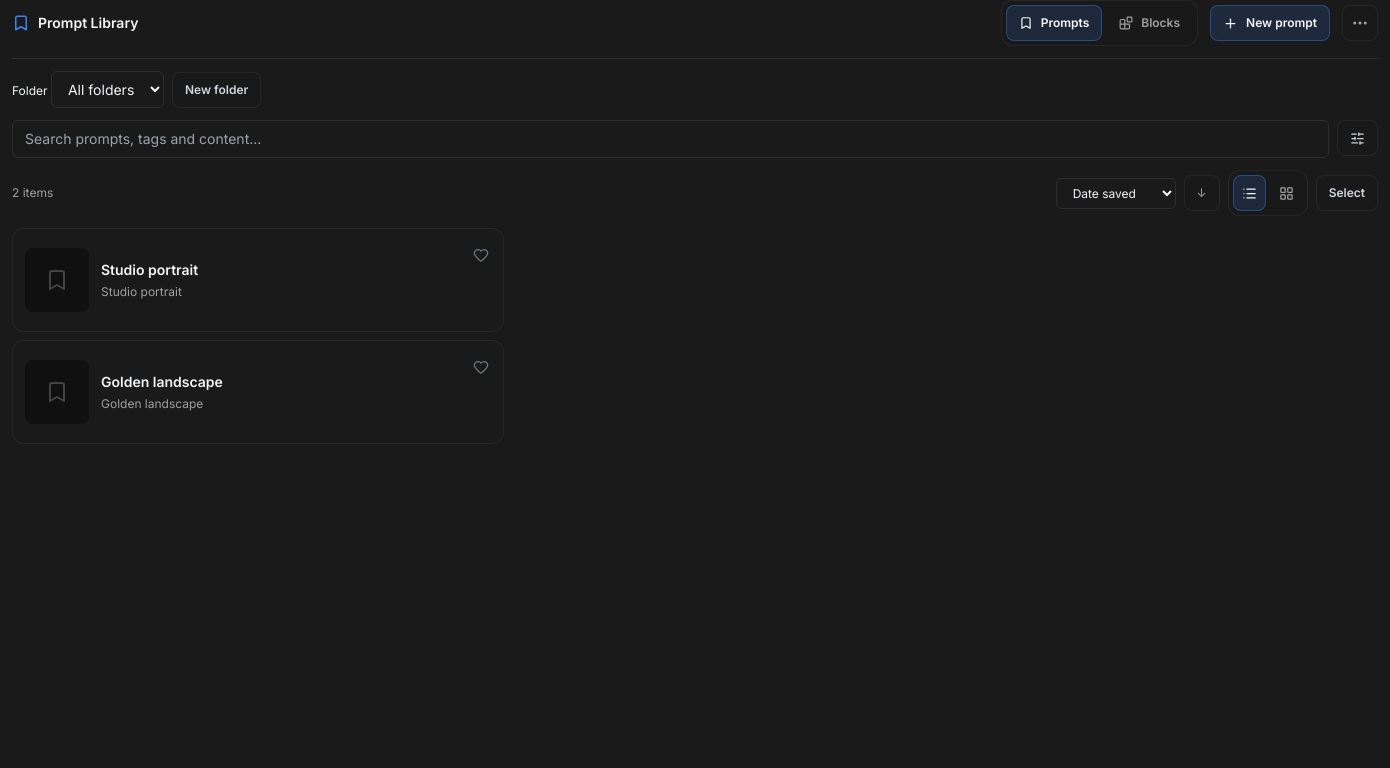
it: integrated Prompt Library › waits for tag saves before favorite on a prompt and uses the latest revision
This screenshot has width=1390, height=768.
Click the button with aria-label "Open Studio portrait" at (57,280), box [25, 248, 491, 312]
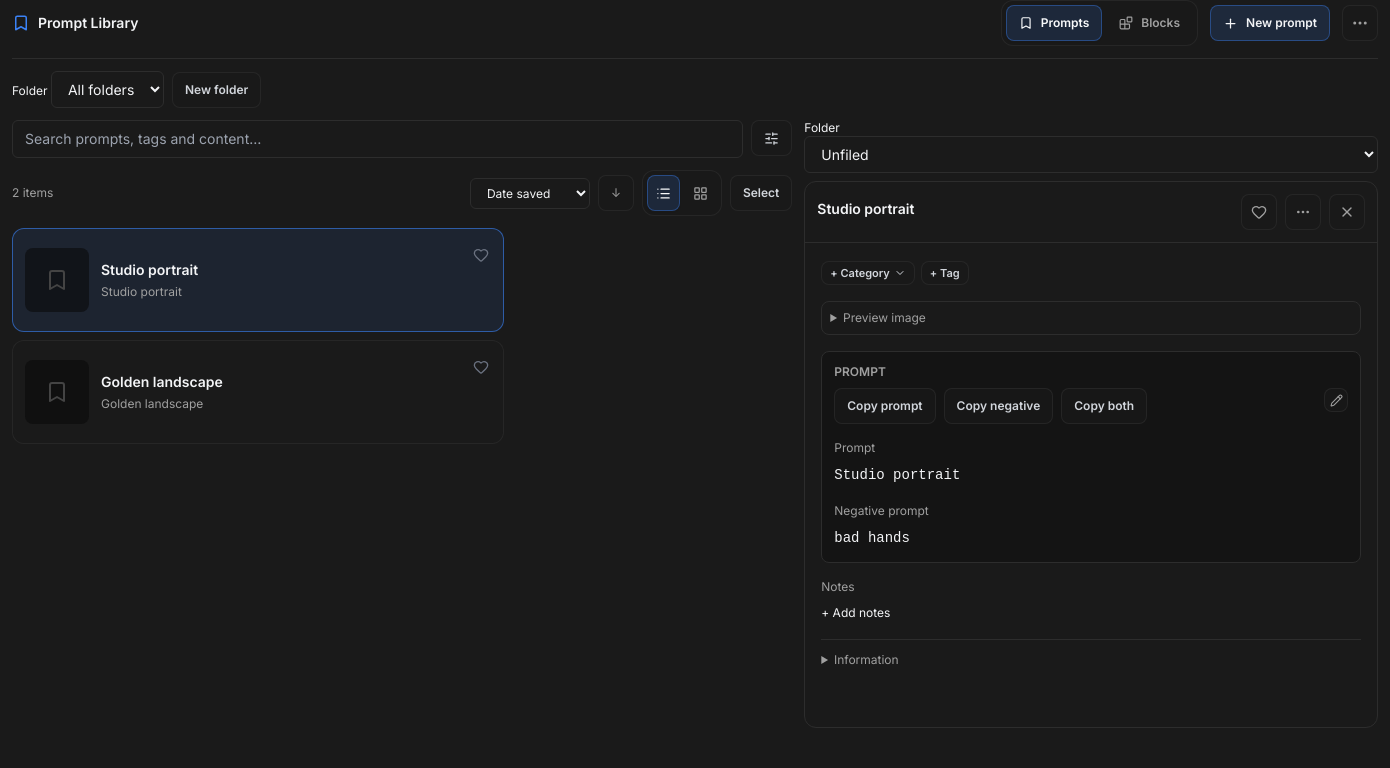
Click the button "+ Tag" at (945,273), box [921, 261, 969, 285]
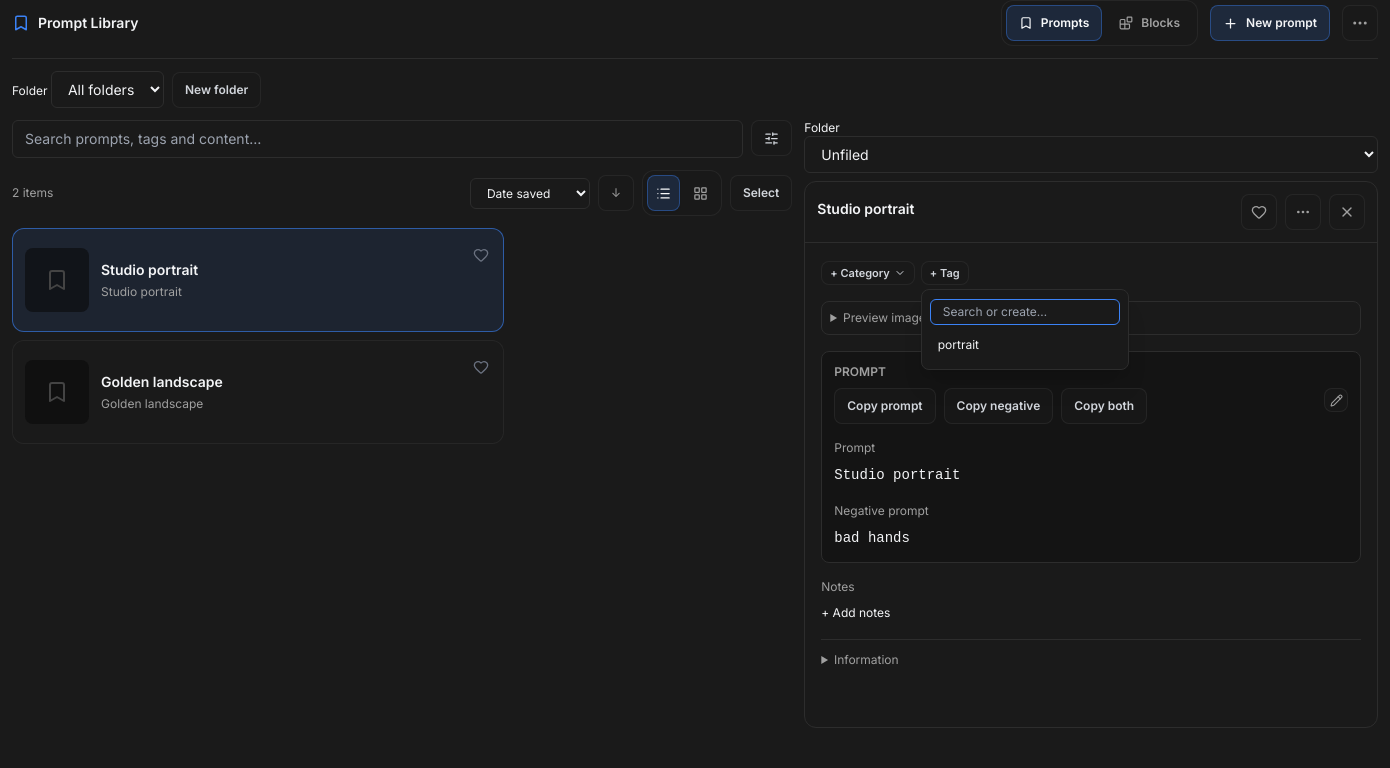
Type "new-tag" into the field named "Search or create tag" at (1025,312), box [930, 299, 1120, 325]
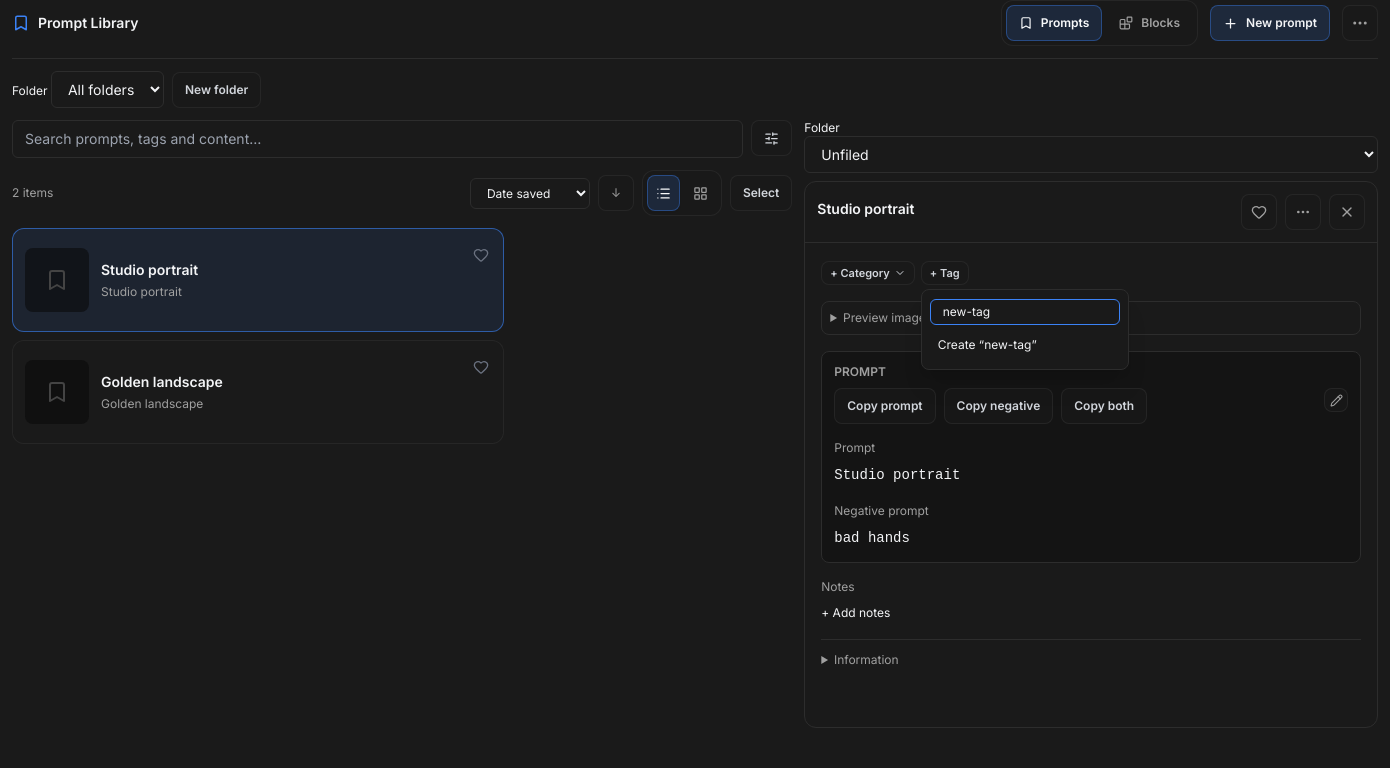
Press Enter in the field named "Search or create tag", box [930, 299, 1120, 325]
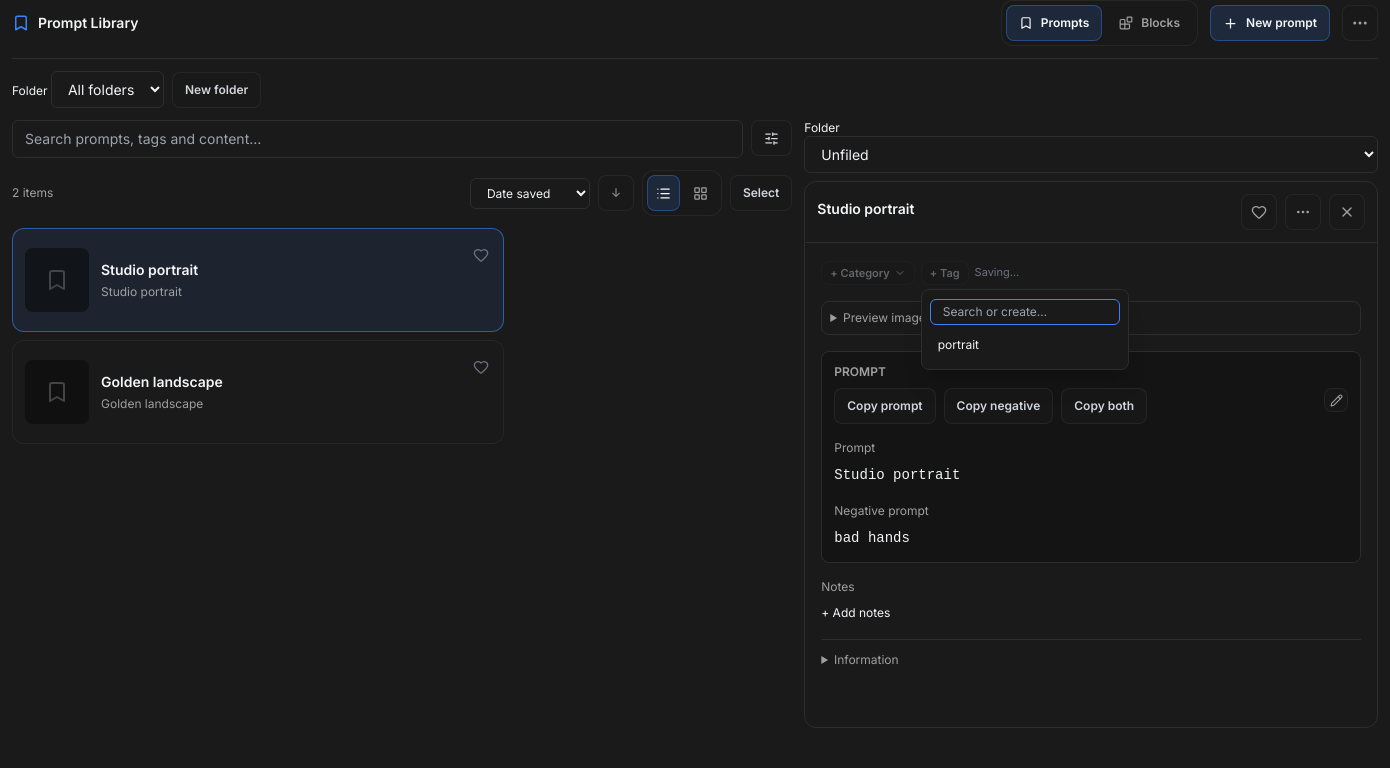
Click the button named "Toggle favorite" at (1259,212), box [1241, 194, 1277, 230]
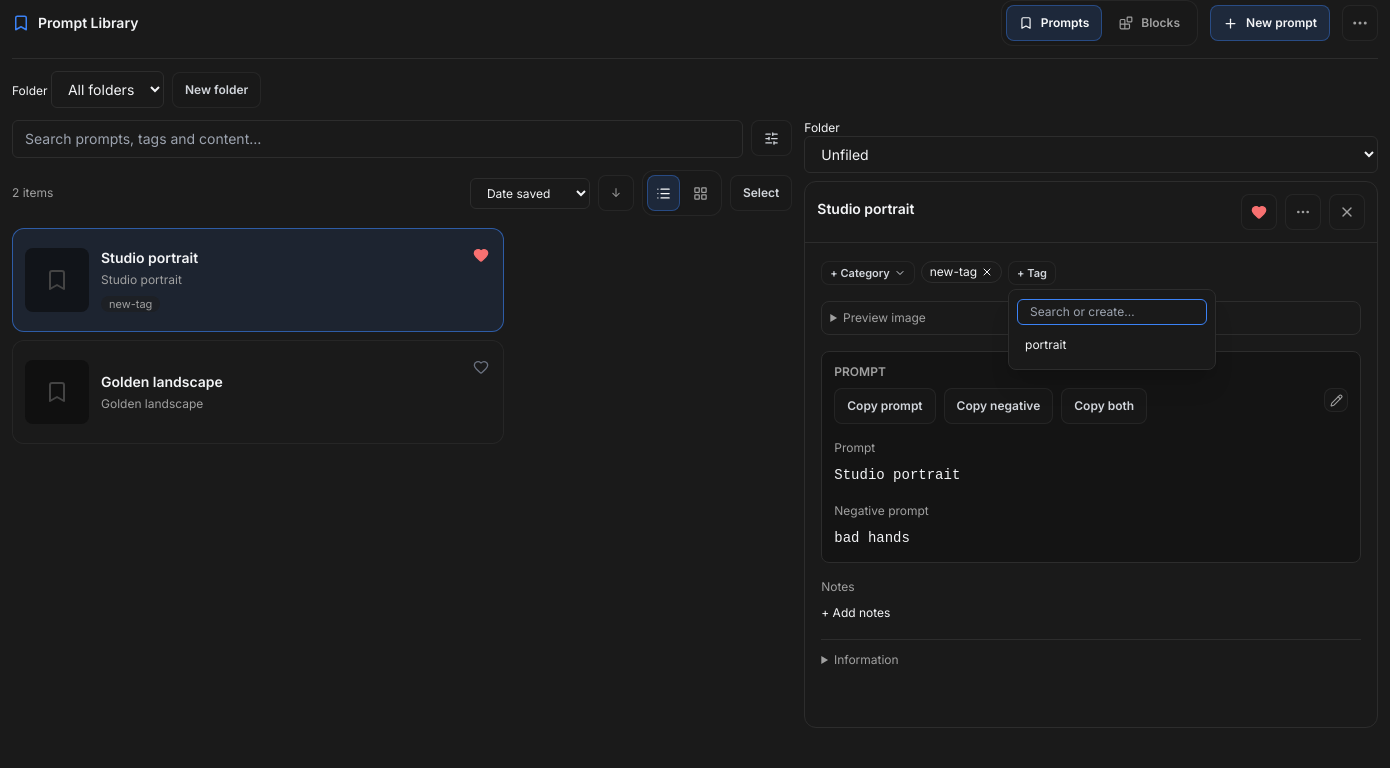
Now the message "Saving…" is gone
